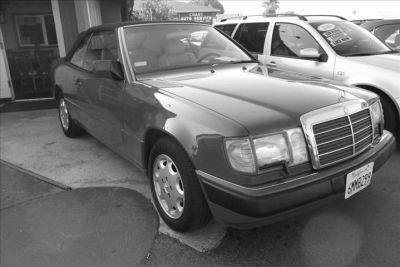car: (47, 18, 400, 238)
